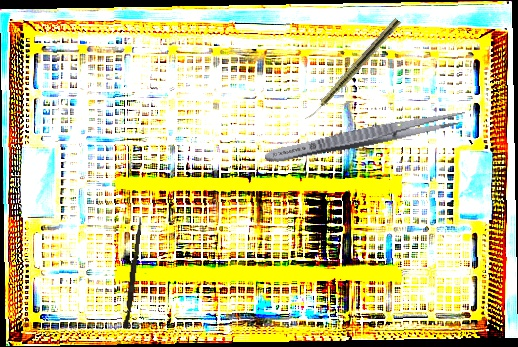Dressing Forceps: (263, 104, 468, 169)
Handpiece: (303, 16, 402, 124)
Pusher: (123, 216, 143, 329)
